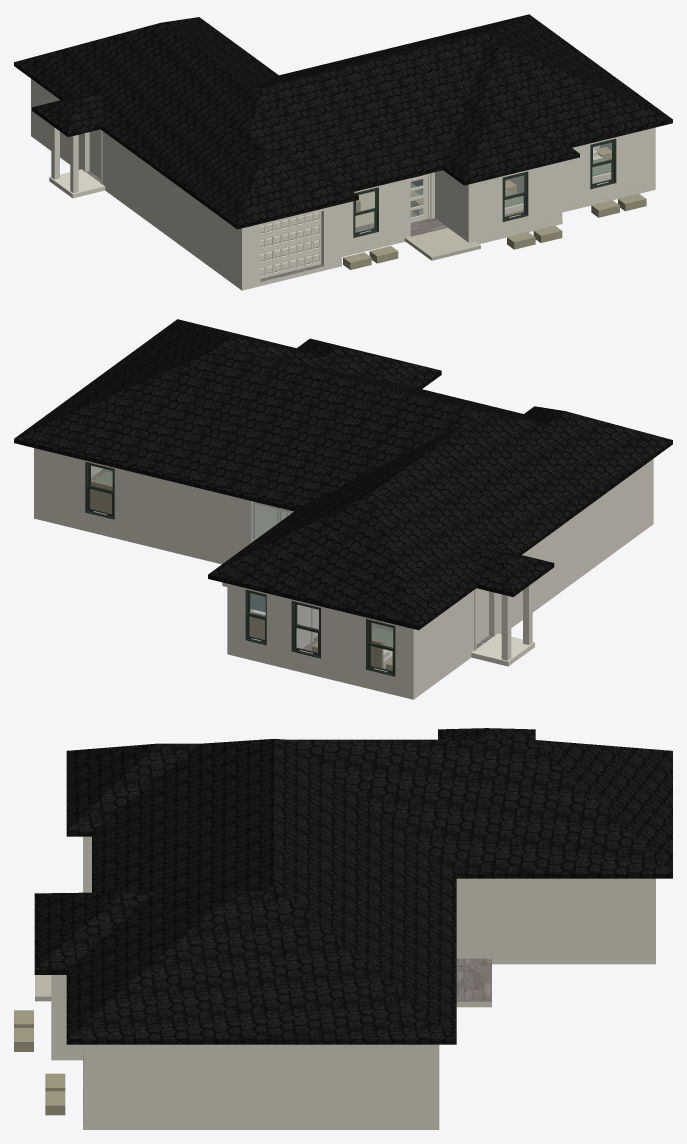
File: utah-propuesta.glb
3 views of the same model, one above another, from view 1: azimuth 30°, elevation 25°; view 2: azimuth 150°, elevation 25°; view 3: azimuth 270°, elevation 25° (orthographic). The views are drawn at different scales.
Parts seen in each view (by area): view 1: 165 Componente#83, 075 Componente#3, 085 Componente#13, 073 Componente#1, 083 Componente#11, 001 Group, 079 Componente#7, 082 Componente#10, Acceso piedra, 077 Componente#5, 076 Componente#4, 214 3DGeom~8 (+4 smaller); view 2: 165 Componente#83, 086 Componente#14, 075 Componente#3, 074 Componente#2, 073 Componente#1, 166 Componente#84, 135 Componente#62, 178 Group, 090 Componente#18, 108 Componente#36, 167 Componente#85, Cabecero roble; view 3: 165 Componente#83, 088 Componente#16, 087 Componente#15, 073 Componente#1, 084 Componente#12, 085 Componente#13, 074 Componente#2, 086 Componente#14, 083 Componente#11.
Boxes of the visible parts, <box> form: 165 Componente#83: <box>14,14,672,229</box>; 075 Componente#3: <box>34,81,247,286</box>; 085 Componente#13: <box>562,127,655,208</box>; 073 Componente#1: <box>31,132,655,290</box>; 083 Componente#11: <box>474,162,562,241</box>; 001 Group: <box>259,209,324,281</box>; 079 Componente#7: <box>342,178,410,252</box>; 082 Componente#10: <box>435,170,473,242</box>; Acceso piedra: <box>404,228,480,260</box>; 077 Componente#5: <box>324,204,341,266</box>; 076 Componente#4: <box>247,208,324,284</box>; 214 3DGeom~8: <box>410,174,428,222</box>; 165 Componente#83: <box>14,319,672,630</box>; 086 Componente#14: <box>34,448,255,560</box>; 075 Componente#3: <box>417,459,653,691</box>; 074 Componente#2: <box>227,583,417,694</box>; 073 Componente#1: <box>34,469,653,699</box>; 166 Componente#84: <box>501,594,511,660</box>; 135 Componente#62: <box>476,588,488,643</box>; 178 Group: <box>254,504,279,539</box>; 090 Componente#18: <box>255,504,291,539</box>; 108 Componente#36: <box>296,604,311,648</box>; 167 Componente#85: <box>523,583,532,644</box>; Cabecero roble: <box>90,480,112,513</box>; 165 Componente#83: <box>34,728,672,1044</box>; 088 Componente#16: <box>91,1044,430,1124</box>; 087 Componente#15: <box>456,878,647,958</box>; 073 Componente#1: <box>51,958,655,1129</box>; 084 Componente#12: <box>59,975,83,1054</box>; 085 Componente#13: <box>83,1044,91,1124</box>; 074 Componente#2: <box>647,878,655,958</box>; 086 Componente#14: <box>431,1044,439,1124</box>; 083 Componente#11: <box>51,975,59,1054</box>.
Bounding box in the file's own units: 17.58 × 4.7 × 15.79.
49 materials, 4 textured.
